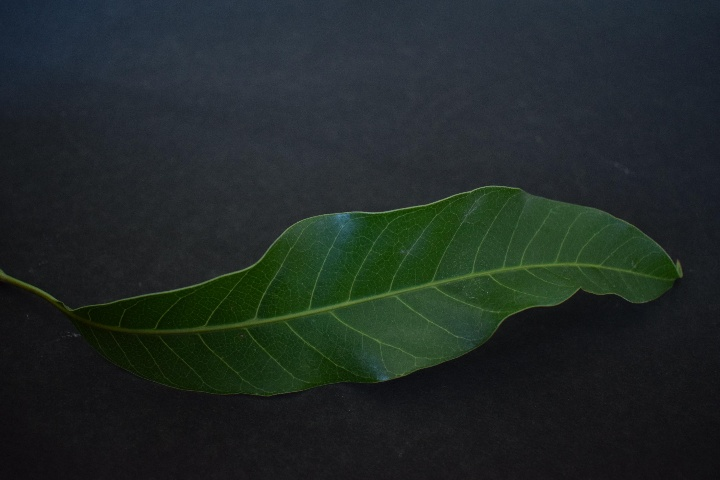healthy: (50, 186, 673, 401)
